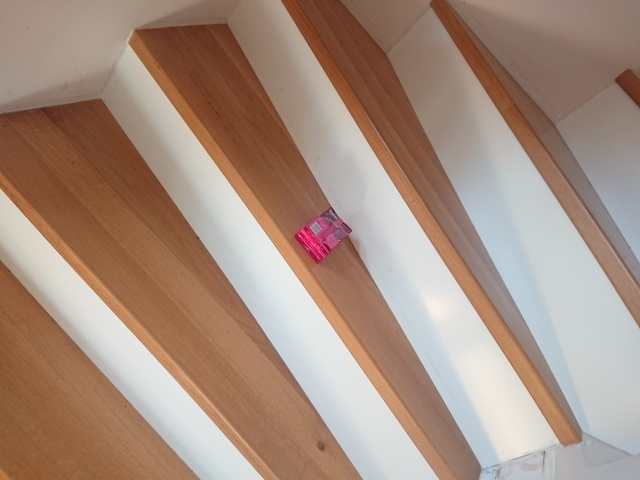Barcaffe Classic Original 225g: (293, 205, 354, 266)
